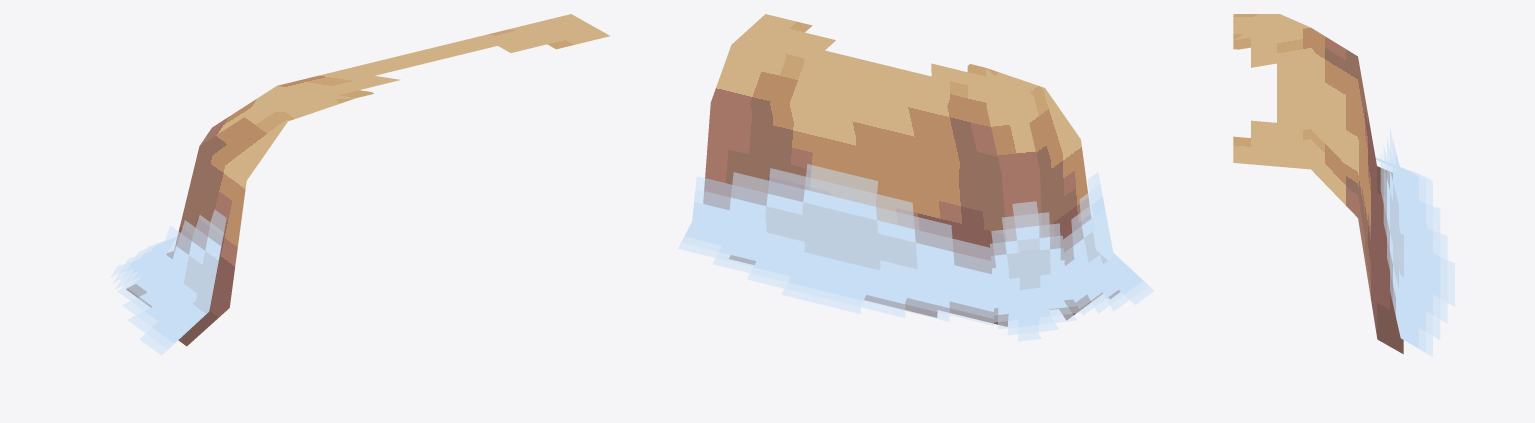
File: ecume-cote-native-12.glb
The picture shows the model from 3 angles, left to right: view 1: azimuth 30°, elevation 25°; view 2: azimuth 150°, elevation 25°; view 3: azimuth 270°, elevation 25°; orthographic projection. The views are drawn at different scales.
Size of the model in its own units: 1.55 by 0.7266 by 0.7695.
Materials: 2 (2 with a texture image).
